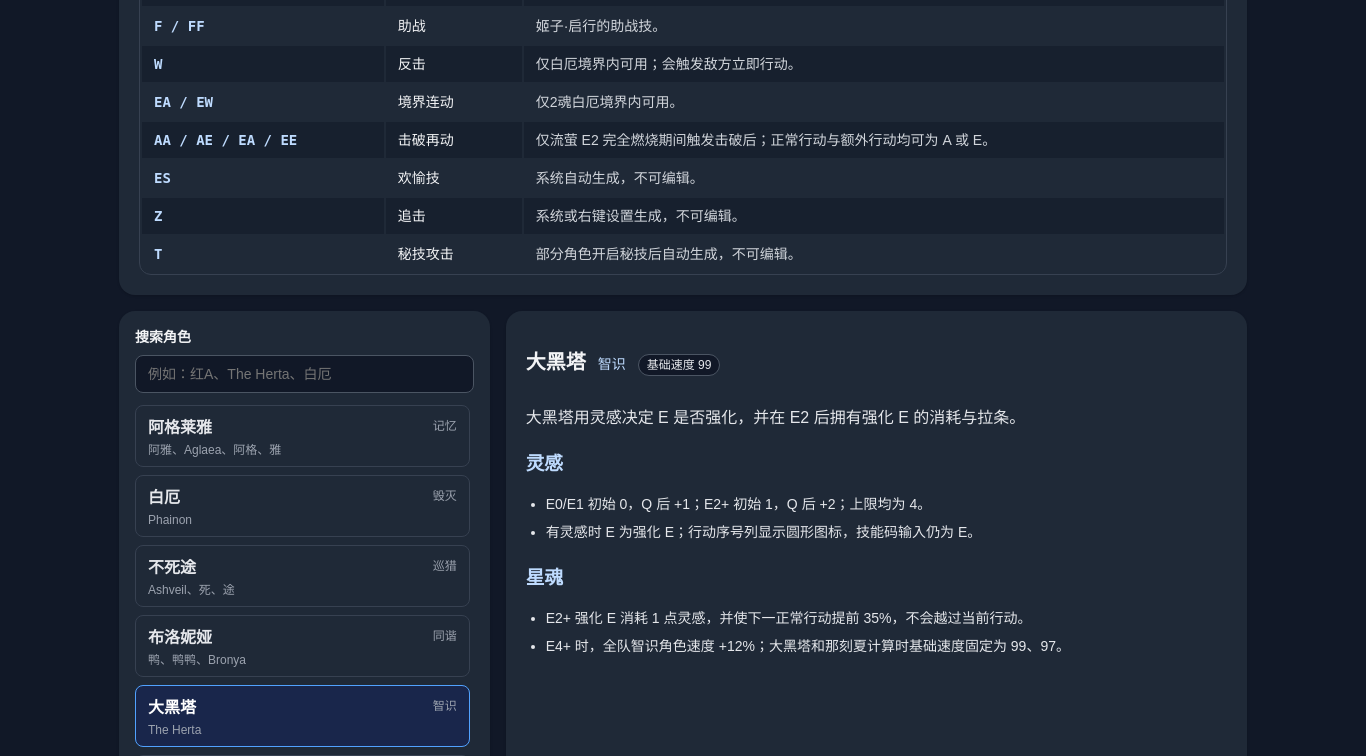
Test case: 使用指南 › 可通过角色别名搜索并展示对应操作说明
(page scrolled)
Type "红A" into the field labelled "搜索角色" at (304, 374), box [135,355,474,393]
(page scrolled)
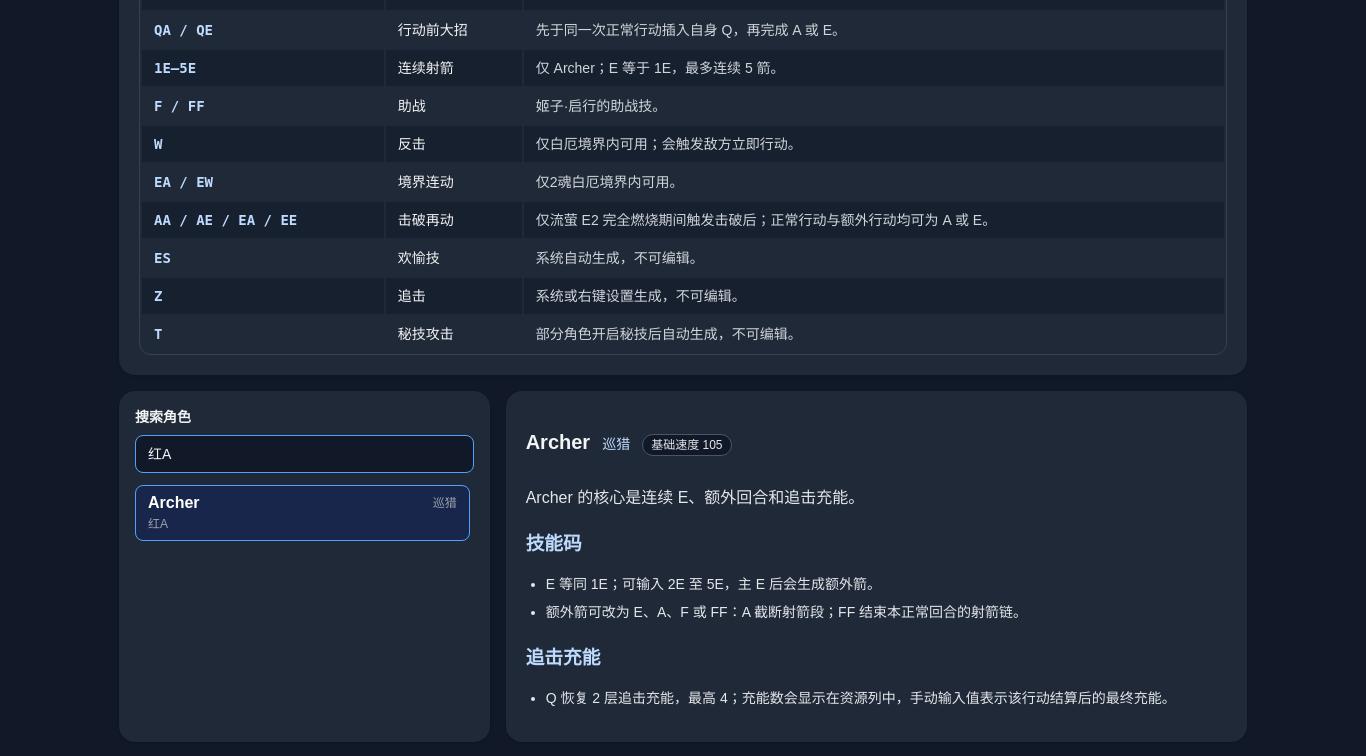
Check: the button "Archer 巡猎 红A" is shown, box [135,485,470,541]
